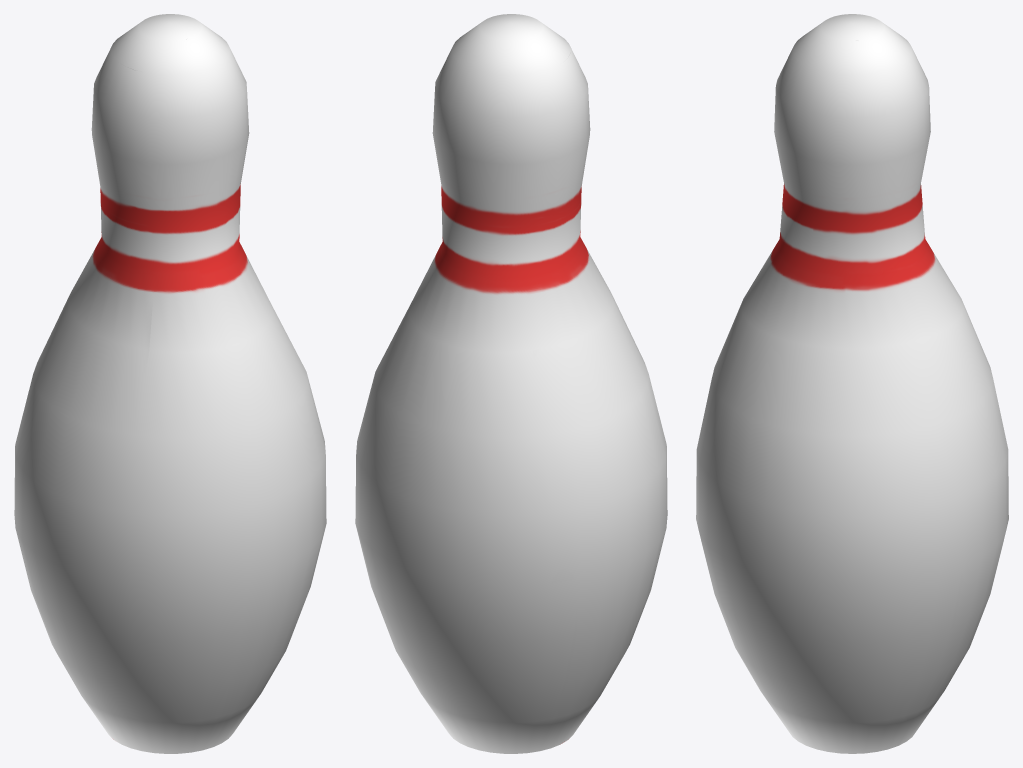
File: bowling_pin.fbx
3 renders of one model, left to right at view 1: azimuth 30°, elevation 25°; view 2: azimuth 150°, elevation 25°; view 3: azimuth 270°, elevation 25°, orthographic.
Parts seen in each view (by area): view 1: Sphere.001; view 2: Sphere.001; view 3: Sphere.001.
Part boxes in pixels (box(x1,y1,x2,y2)): Sphere.001: box(14, 14, 326, 753); Sphere.001: box(355, 14, 667, 753); Sphere.001: box(696, 14, 1008, 753).
Size of the model in its own units: 185 by 460 by 185.
1 material, 1 textured.
